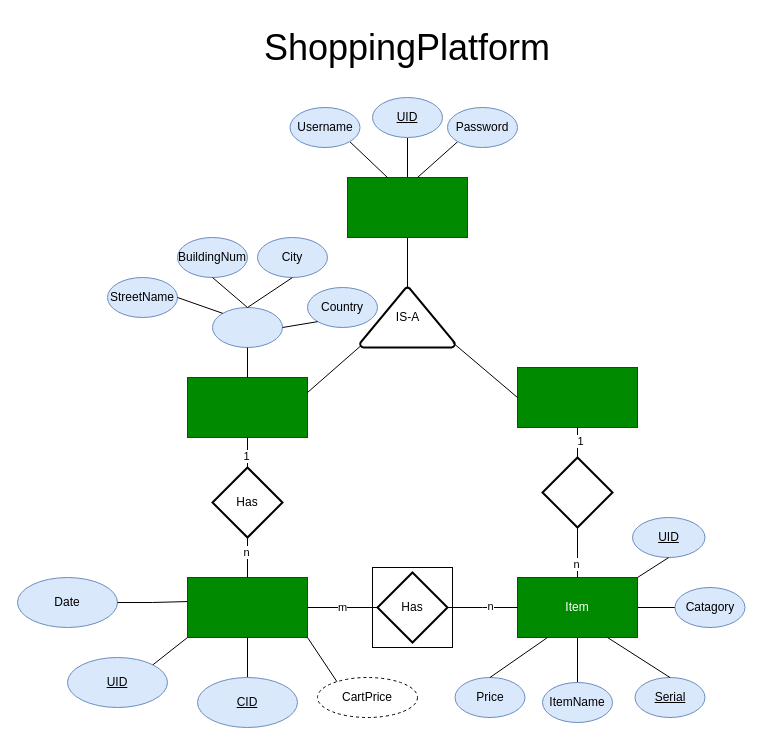
The diagram is 763 pixels wide and 745 high, and some of its shapes have lost their labels. The shapes that lost their labels are listed below. From the top down, each one's centre as x and y in pixels, then its label:
the point at 407,207: User
the point at 247,327: Address
the point at 247,407: Buyer
the point at 577,397: Seller
the point at 577,492: Sells
the point at 247,607: ShoppingCart
